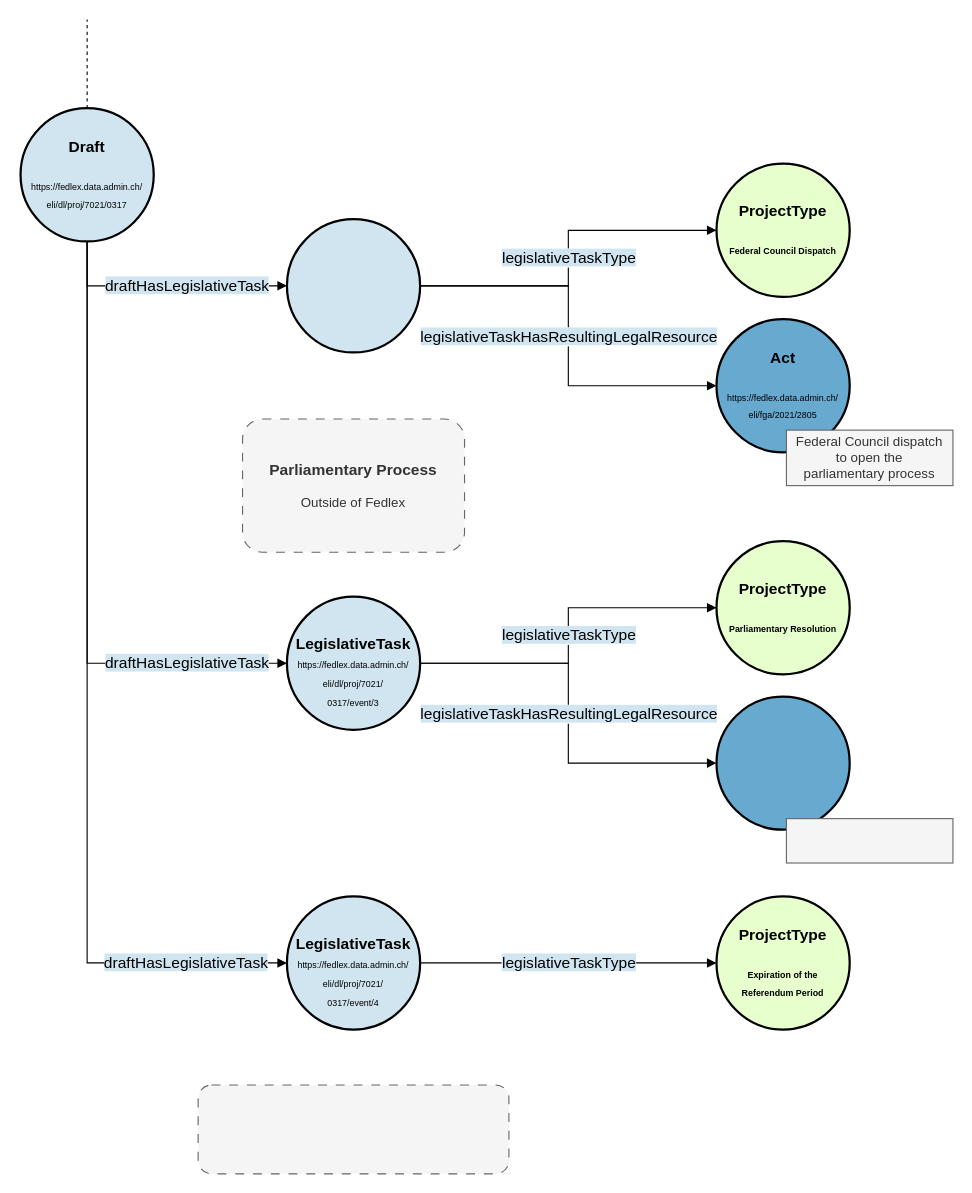
Some shapes in this 972 by 1193 pixel diagram are drawn without their labels. Here are the shapes that lost their labels. From the top down, the box of each, then its label:
(285, 218, 421, 353): LegislativeTask https://fedlex.data.admin.ch/ eli/dl/proj/7021/ 0317/event/2
(715, 695, 850, 830): Act https://fedlex.data.admin.ch/ eli/fga/2022/1564
(785, 818, 953, 863): the actual law in the BBl
(197, 1084, 509, 1174): Publication in OC and CC Not (yet) connected to the jolux:Draft
